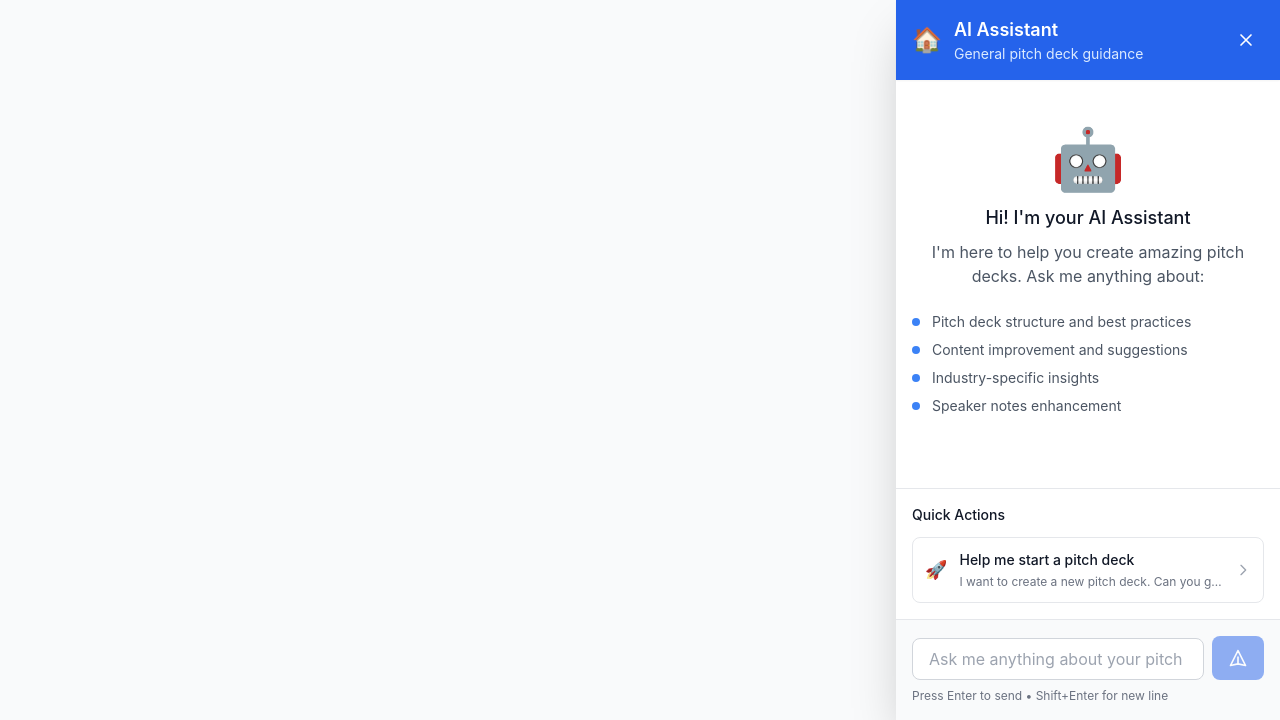
Test case: Message Handling and Conversation Flow › Message Input › enables send button when input has content
This screenshot has width=1280, height=720.
Type "Hello AI" into the field with placeholder "Ask me anything about your pitch deck..." at (1058, 659), box [912, 638, 1204, 680]
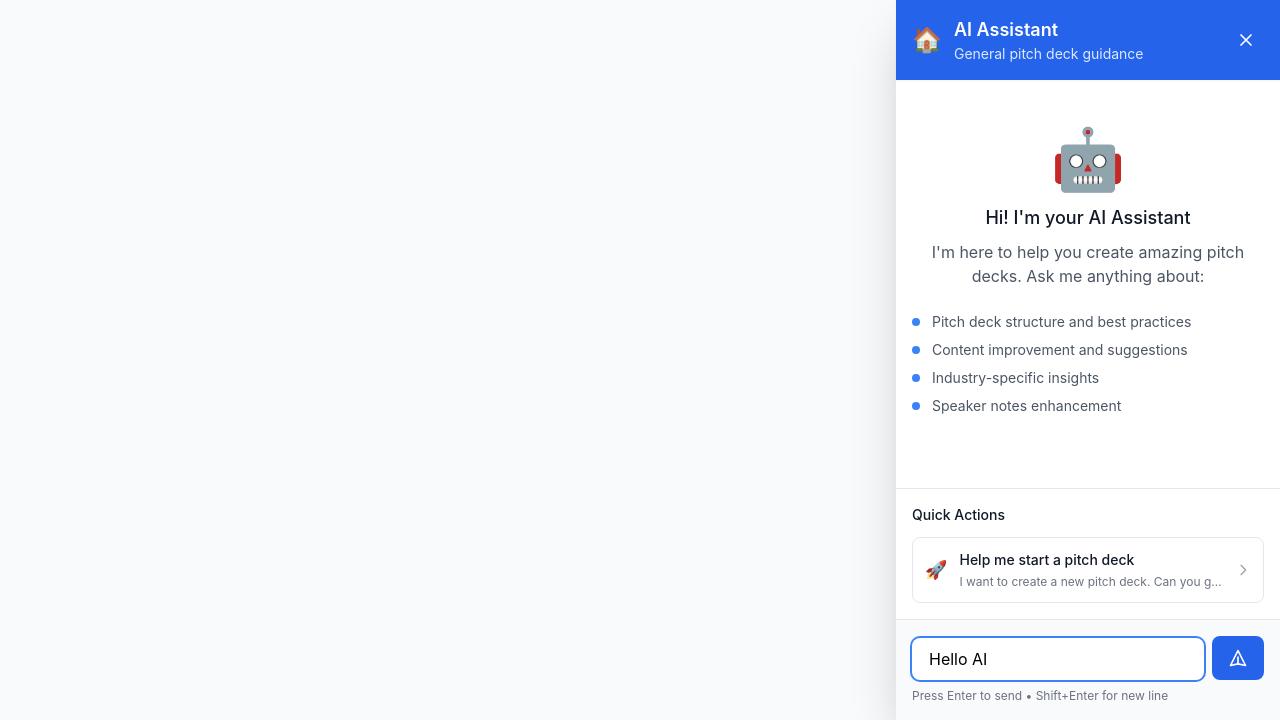
Expected: the button named "Send message" is enabled, [1212, 636, 1264, 680]
